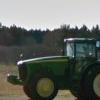Tractor: (8, 35, 100, 100)
